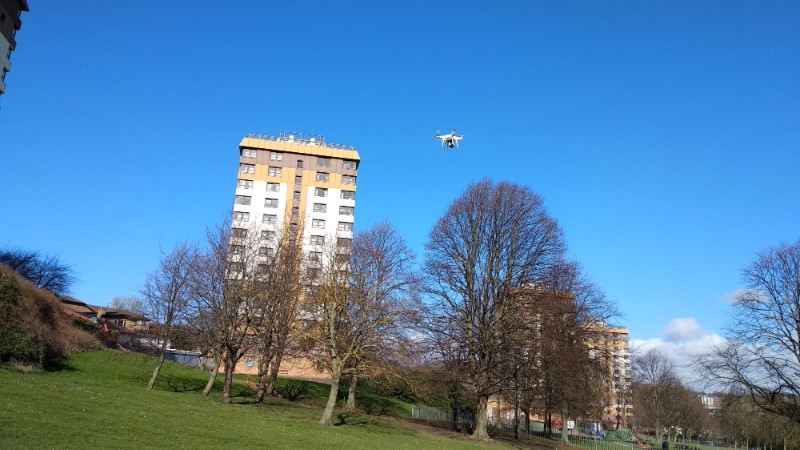drone: (432, 127, 466, 151)
